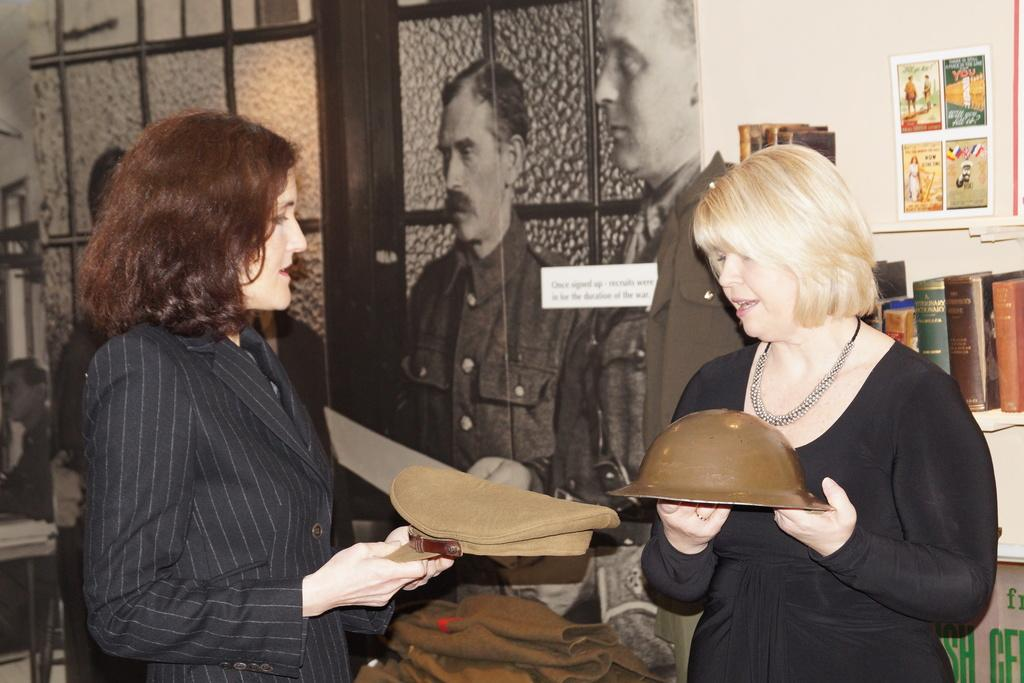Hat: (380, 463, 620, 564)
